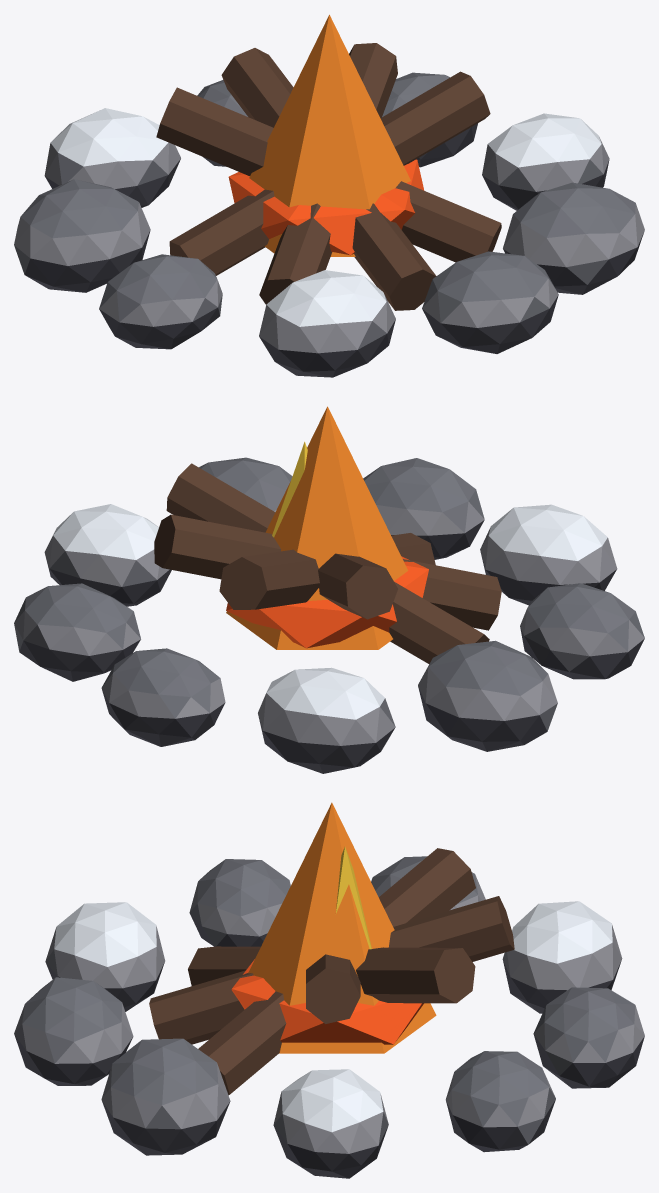
File: campfire.glb
3 renders of one model, top to bottom at view 1: azimuth 30°, elevation 25°; view 2: azimuth 150°, elevation 25°; view 3: azimuth 270°, elevation 25°, orthographic. The views are drawn at different scales.
Visible parts, largest first — view 1: campfire_Main, campfire_Neon_fire, campfire_Neon_ember; view 2: campfire_Main, campfire_Neon_fire, campfire_Neon_ember, campfire_Neon_flame_yellow; view 3: campfire_Main, campfire_Neon_fire, campfire_Neon_ember, campfire_Neon_flame_yellow.
Boxes of the visible parts, bbox=[...] form: campfire_Main: bbox=[14, 43, 644, 377]; campfire_Neon_fire: bbox=[249, 14, 410, 256]; campfire_Neon_ember: bbox=[228, 159, 424, 255]; campfire_Main: bbox=[14, 457, 644, 773]; campfire_Neon_fire: bbox=[226, 406, 408, 649]; campfire_Neon_ember: bbox=[226, 556, 428, 648]; campfire_Neon_flame_yellow: bbox=[272, 441, 307, 537]; campfire_Main: bbox=[14, 848, 644, 1178]; campfire_Neon_fire: bbox=[248, 802, 436, 1053]; campfire_Neon_ember: bbox=[231, 959, 423, 1044]; campfire_Neon_flame_yellow: bbox=[336, 846, 371, 949].
Bounding box in the file's own units: 4.92 × 2.22 × 4.83.
Materials: 1 (1 with a texture image).
